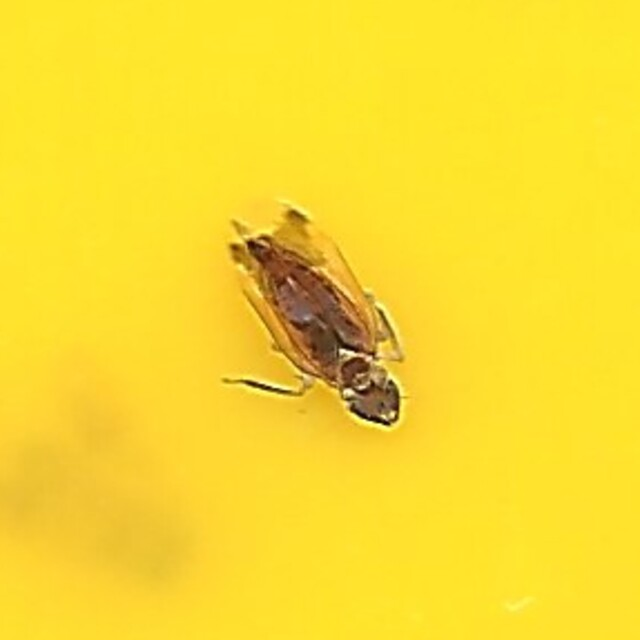Hemiptera: (223, 206, 417, 434)
